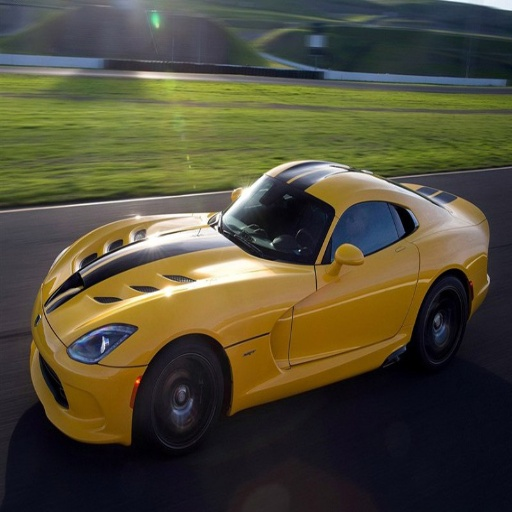back_glass: (331, 4, 483, 70), (273, 167, 337, 236)
front_bumper: (32, 320, 145, 442)
front_glass: (222, 182, 309, 262), (115, 15, 226, 57)
front_left_door: (296, 199, 377, 357)
trunk: (229, 339, 282, 393)
